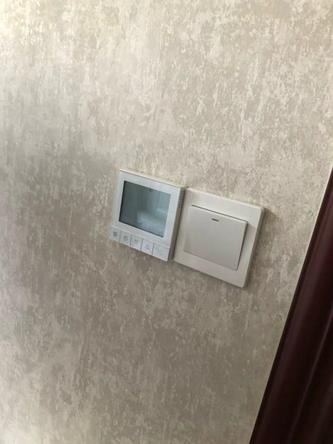switch: (189, 201, 242, 268)
